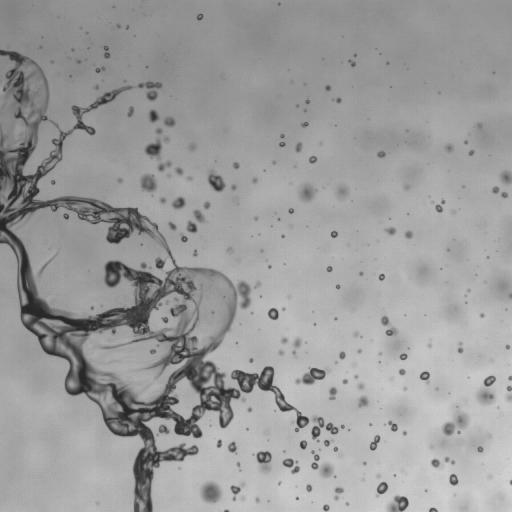droplet: (144, 128, 171, 171), (442, 404, 469, 435), (476, 375, 495, 404), (200, 481, 221, 503), (137, 81, 161, 100), (207, 170, 225, 191), (254, 451, 271, 473), (386, 495, 408, 511), (298, 183, 316, 202), (140, 173, 157, 193), (282, 458, 300, 473), (335, 185, 348, 199), (172, 196, 185, 209), (376, 482, 388, 496), (193, 210, 205, 223), (500, 170, 511, 184), (186, 221, 197, 233), (149, 109, 159, 122), (435, 199, 445, 212), (267, 308, 278, 319), (419, 371, 429, 383), (334, 487, 343, 500), (164, 117, 175, 127), (358, 396, 368, 407), (158, 424, 169, 434), (449, 474, 458, 485), (329, 387, 337, 399), (228, 441, 236, 453), (388, 421, 397, 431), (385, 227, 395, 235), (295, 142, 302, 152), (175, 167, 183, 175), (168, 222, 176, 230), (127, 106, 133, 116), (445, 144, 453, 151), (309, 156, 317, 163), (404, 231, 412, 238), (180, 234, 187, 242), (161, 316, 169, 323), (300, 440, 306, 449), (492, 186, 499, 193), (377, 151, 385, 157), (204, 201, 210, 209), (339, 351, 345, 359), (189, 143, 195, 150), (233, 162, 239, 169), (159, 197, 166, 203), (62, 213, 69, 219), (254, 281, 260, 288), (281, 337, 288, 343), (400, 353, 407, 359), (398, 369, 405, 375), (357, 383, 364, 389), (306, 484, 312, 491), (323, 504, 329, 511), (216, 439, 221, 447), (197, 14, 203, 20), (349, 60, 355, 66), (331, 231, 337, 237), (324, 440, 330, 446), (477, 446, 483, 452), (429, 507, 437, 511), (301, 122, 307, 127), (468, 150, 474, 155), (252, 177, 257, 183), (501, 192, 507, 197), (326, 266, 332, 271), (379, 274, 384, 280), (354, 332, 360, 337), (342, 379, 348, 384), (325, 85, 330, 90), (477, 123, 482, 128), (117, 178, 122, 183), (288, 208, 293, 213), (227, 247, 232, 252), (278, 350, 283, 355), (335, 98, 341, 102), (279, 142, 285, 146), (186, 176, 191, 180), (231, 185, 236, 189), (404, 185, 409, 189), (193, 251, 197, 256), (247, 407, 251, 412), (333, 447, 338, 451), (236, 462, 240, 467), (255, 497, 259, 502), (94, 85, 98, 89), (51, 180, 55, 184), (165, 300, 169, 304), (480, 313, 484, 317), (357, 349, 361, 353), (249, 358, 253, 362), (354, 374, 358, 378), (241, 496, 245, 500), (306, 99, 309, 103), (280, 134, 284, 137), (336, 285, 340, 288), (428, 343, 431, 347), (506, 345, 509, 349), (508, 376, 511, 380), (509, 293, 511, 298), (509, 479, 511, 484), (224, 509, 229, 511), (117, 24, 120, 27), (77, 60, 80, 63), (272, 161, 275, 164), (359, 272, 362, 275), (403, 387, 406, 390), (403, 431, 406, 434), (363, 461, 366, 464), (464, 141, 467, 143), (167, 174, 170, 176), (451, 211, 454, 213), (254, 217, 257, 219), (281, 235, 284, 237), (467, 289, 470, 291), (90, 307, 93, 309), (282, 308, 285, 310), (379, 352, 381, 355), (377, 474, 379, 477), (126, 26, 128, 28), (55, 253, 57, 255), (208, 323, 210, 325), (390, 377, 392, 379), (341, 425, 343, 427), (278, 482, 280, 484), (346, 503, 348, 505)
ligament: (0, 49, 337, 511), (311, 451, 334, 478), (295, 367, 329, 385), (380, 316, 397, 335), (430, 457, 455, 469), (39, 256, 54, 273), (230, 482, 244, 500), (369, 435, 380, 450), (292, 337, 301, 355), (99, 344, 123, 349), (505, 385, 511, 402), (104, 46, 110, 58), (458, 342, 463, 353), (95, 67, 104, 72)
